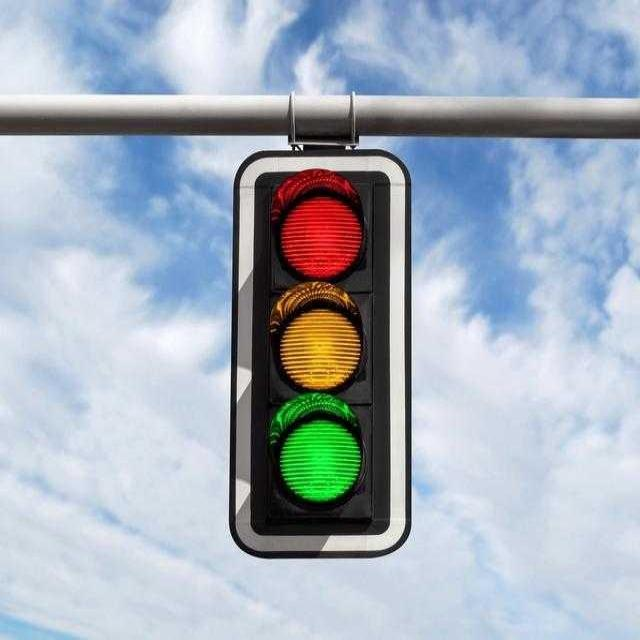Traffic Light -Green-: (245, 392, 389, 524)
Traffic Light -Red-: (256, 170, 378, 280)
Traffic Light -Yellow-: (262, 287, 376, 389)
